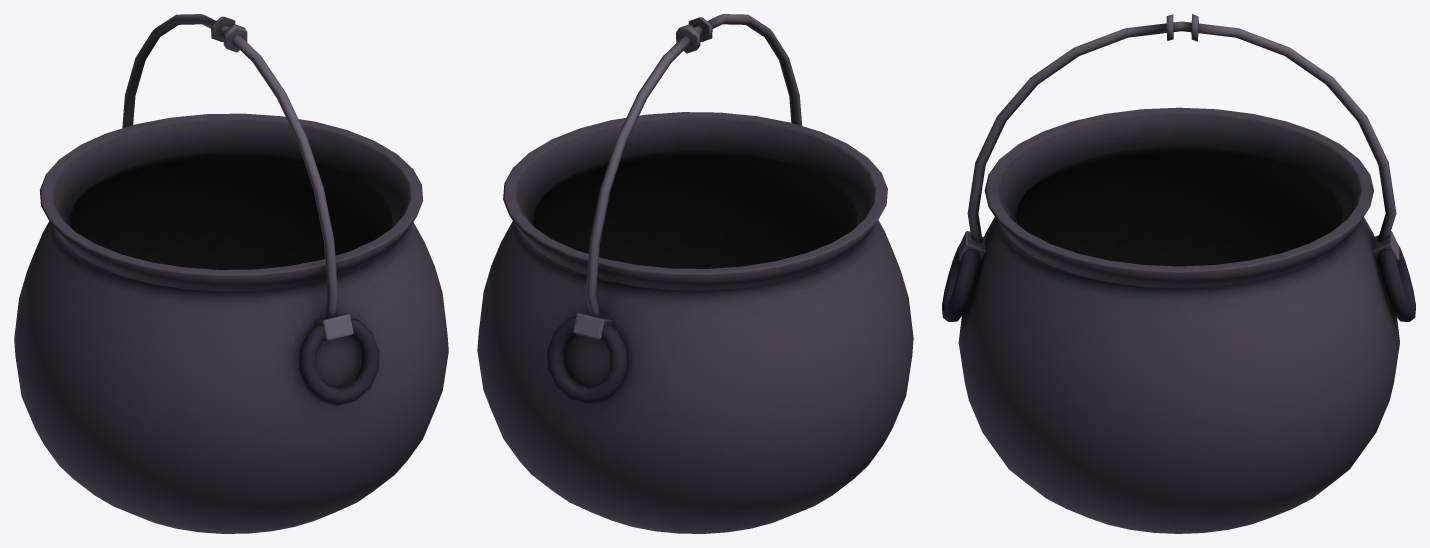
Rendered from hanging_pot.glb.
3 views of the same model, side by side, from view 1: azimuth 30°, elevation 25°; view 2: azimuth 150°, elevation 25°; view 3: azimuth 270°, elevation 25° (orthographic).
Parts seen in each view (by area): view 1: fc_k_pot.smd; view 2: fc_k_pot.smd; view 3: fc_k_pot.smd.
Boxes of the visible parts, <box> form: fc_k_pot.smd: <box>14,14,448,533</box>; fc_k_pot.smd: <box>477,14,913,533</box>; fc_k_pot.smd: <box>942,14,1415,533</box>.
Size of the model in its own units: 0.6194 by 0.7507 by 0.6646.
Materials: 1 (1 with a texture image).
